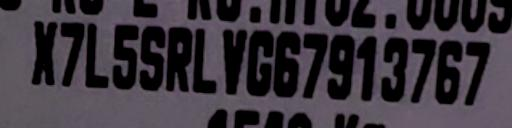letter: (380, 33, 410, 104), (29, 18, 59, 86), (299, 30, 329, 98), (272, 31, 302, 99), (325, 32, 355, 100), (462, 39, 492, 107), (433, 39, 463, 105), (111, 22, 139, 91), (164, 24, 192, 93), (138, 23, 166, 91), (221, 26, 249, 94), (246, 28, 274, 96), (409, 36, 437, 102), (60, 20, 86, 88), (192, 25, 218, 93), (84, 22, 110, 88), (354, 33, 378, 101)
